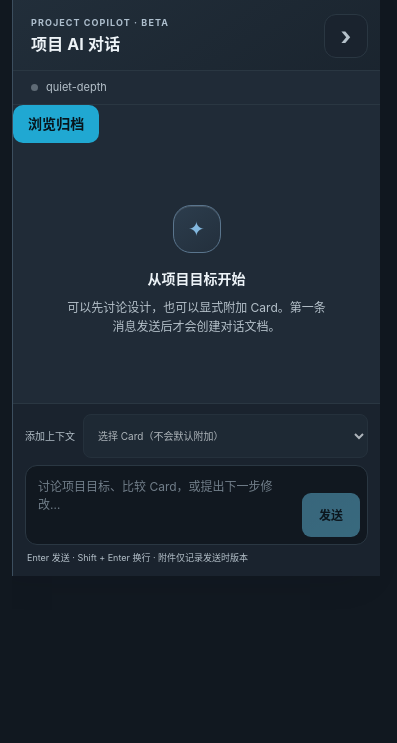
Test case: ProjectConversationDrawer › 缺少历史时不创建空文档，首次消息完成后显示回复
The width and height of the screenshot is (397, 743).
Expected: the text "从项目目标开始" is shown, [148, 269, 246, 290]
Type "做一个冰系项目" into the text box named "发送给项目 AI 的消息". click: (164, 505)
box: [33, 473, 294, 537]
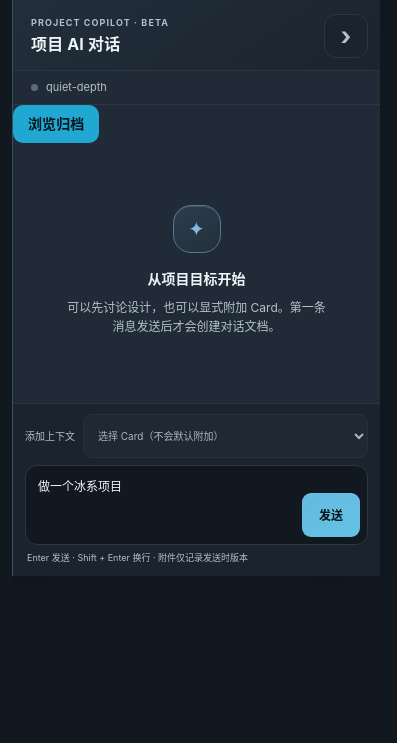
Click the button "发送". click: (331, 515)
box: [302, 493, 360, 537]
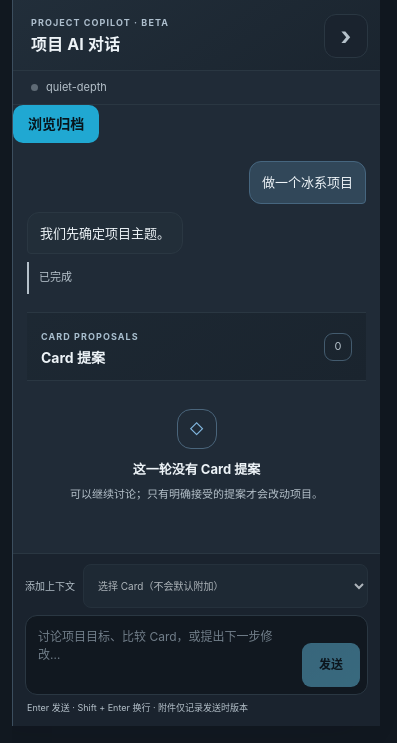
Now the text "我们先确定项目主题。" is shown, box [40, 223, 170, 243]
Now the text box named "发送给项目 AI 的消息" is empty, box [33, 623, 294, 687]
